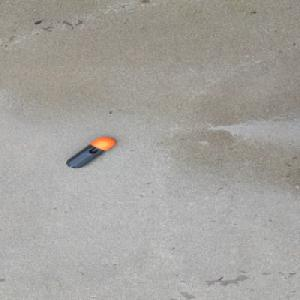PlasticPart: (65, 136, 116, 168)
